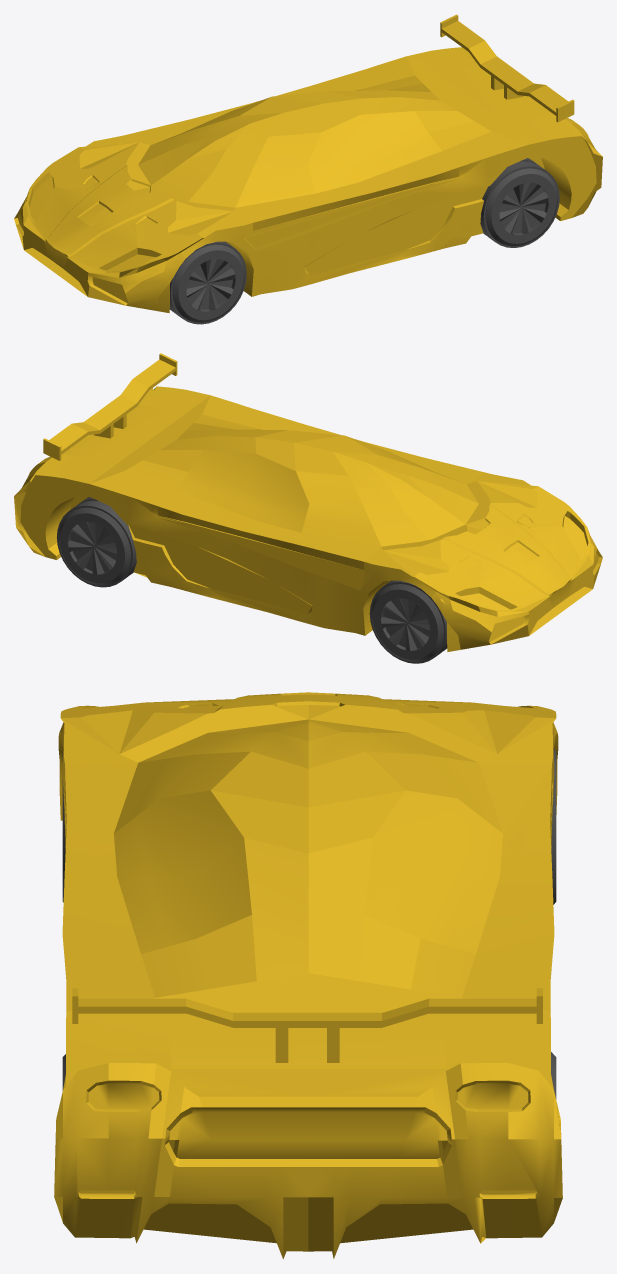
Rendered from Adjusted-AgeraRS-FBX.fbx.
The picture shows the model from 3 angles, top to bottom: view 1: azimuth 30°, elevation 25°; view 2: azimuth 150°, elevation 25°; view 3: azimuth 270°, elevation 25°; orthographic projection. The views are drawn at different scales.
Visible parts, largest first — view 1: Agera RS, Cylinder.001, Cylinder; view 2: Agera RS, Cylinder.001, Cylinder; view 3: Agera RS, Cylinder.
Boxes of the visible parts, box(x1,y1,x2,y2) form: Agera RS: box(14, 14, 602, 313); Cylinder.001: box(480, 158, 559, 247); Cylinder: box(169, 241, 246, 324); Agera RS: box(14, 353, 602, 651); Cylinder.001: box(56, 497, 136, 587); Cylinder: box(369, 580, 447, 663); Agera RS: box(54, 692, 562, 1258); Cylinder: box(62, 749, 556, 904).
Size of the model in its own units: 295 by 78.01 by 134.
